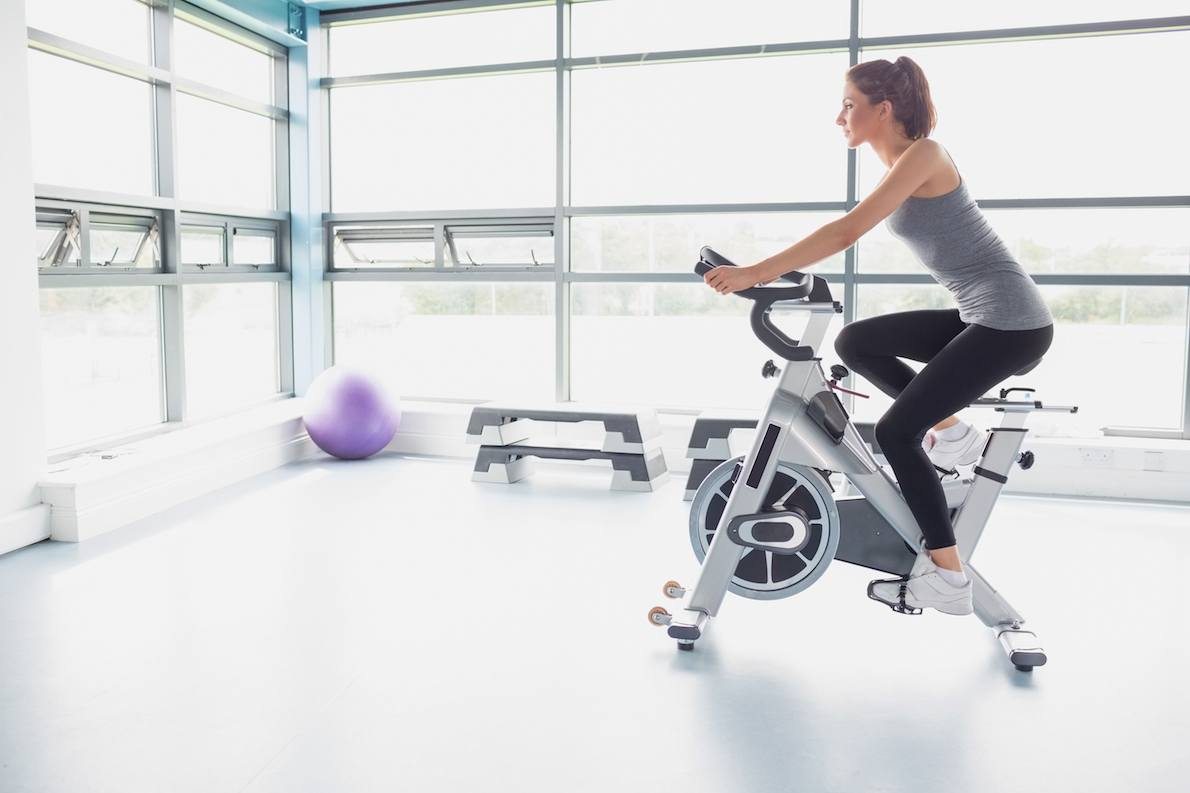gym_bike: (607, 249, 1069, 688)
